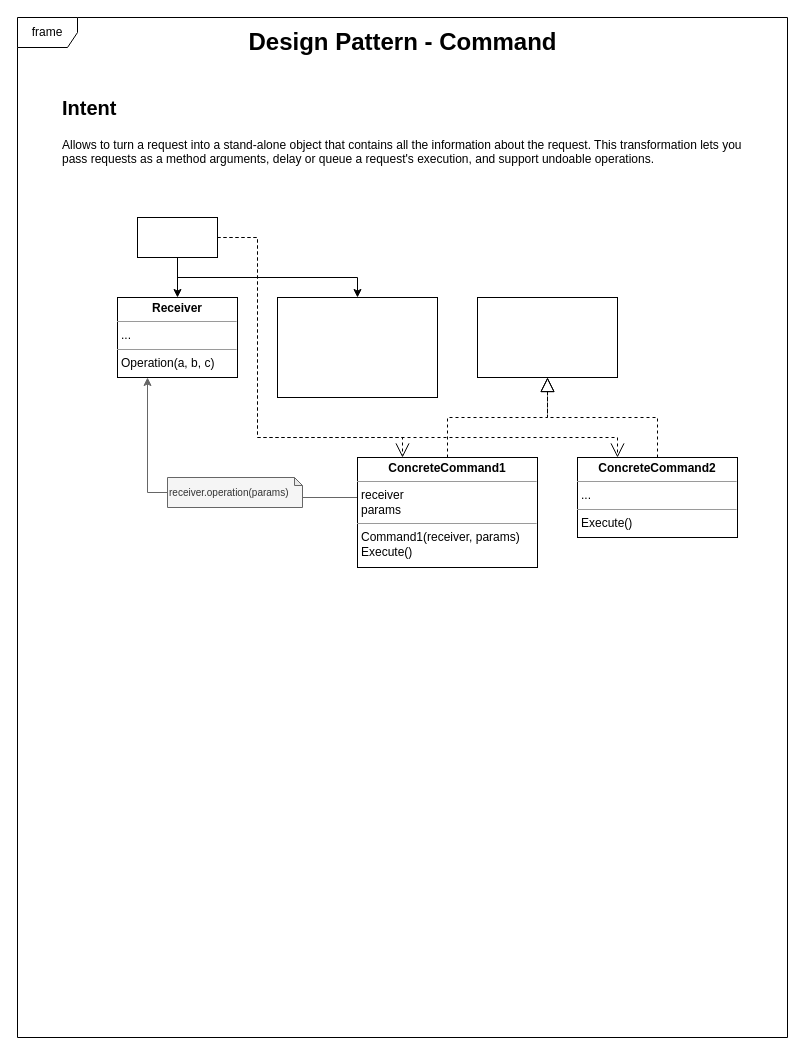
This 805x1055 diagram has some shape labels left out. Here are the shapes that lost their labels. From the top down, the centre of each, then its label:
point (177, 237): Client
point (357, 347): Invoker command SetCommand() ExecuteCommand()
point (547, 337): <<Interface>> Command Execute()
